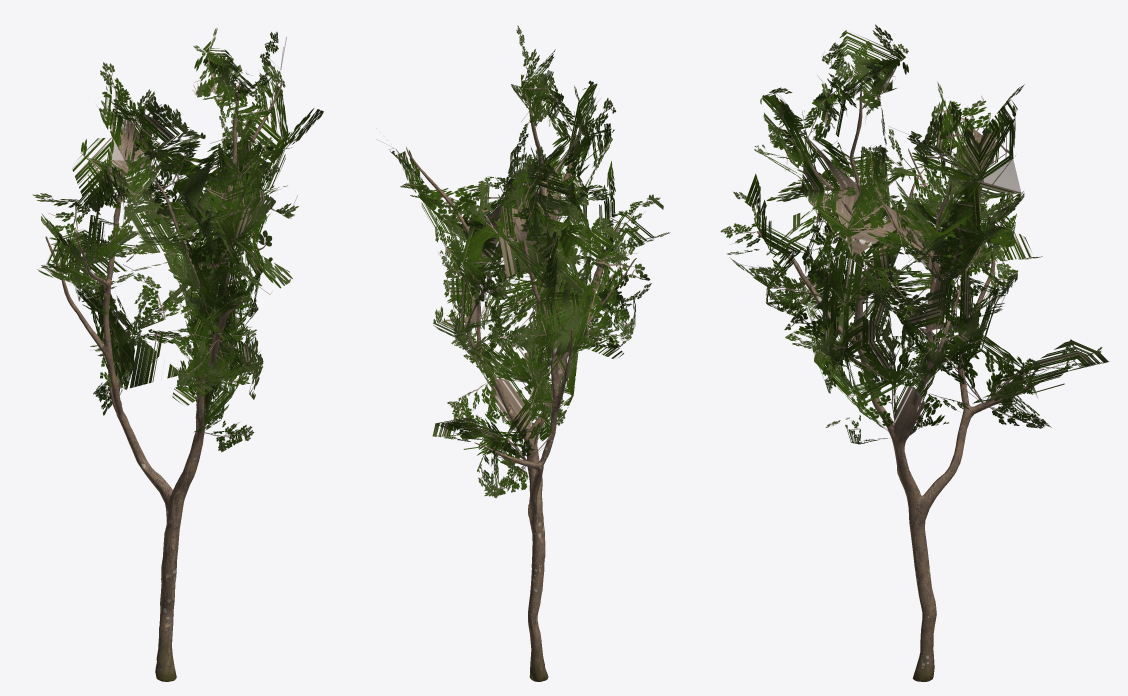
The model's file is street_tree_d.glb.
3 views of the same model, side by side, from view 1: azimuth 30°, elevation 25°; view 2: azimuth 150°, elevation 25°; view 3: azimuth 270°, elevation 25° (orthographic). The views are drawn at different scales.
Bounding box in the file's own units: 9.18 × 19.67 × 10.67.
Materials: 2 (2 with a texture image).
